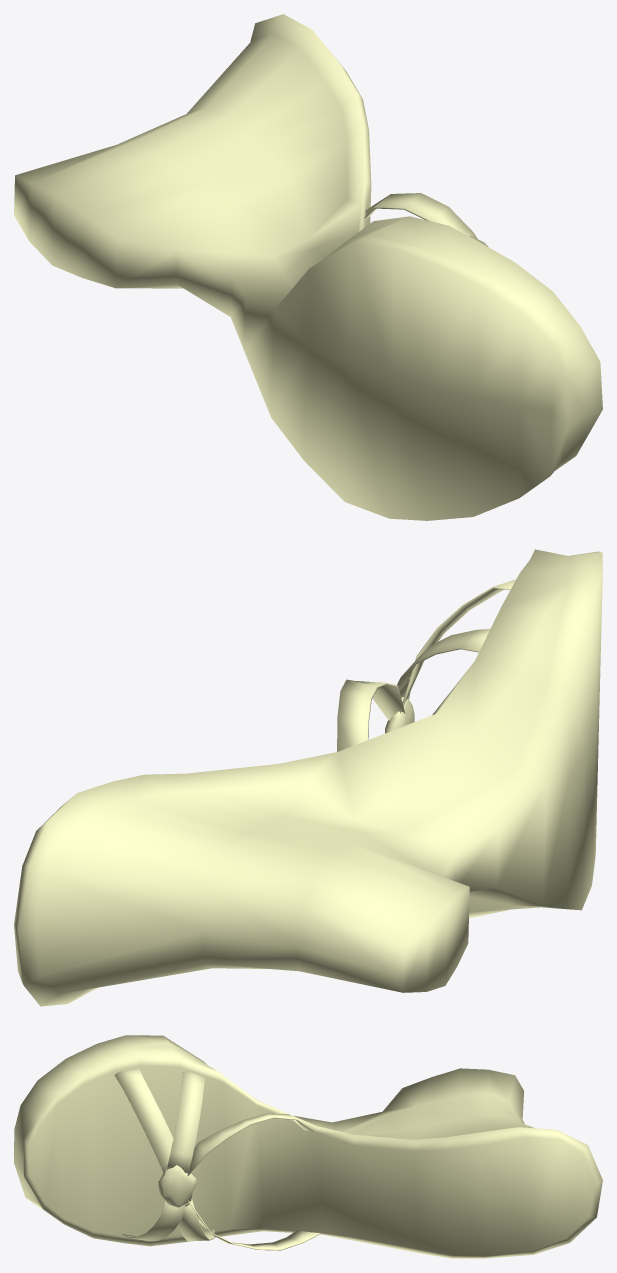
File: shoe3_3.dae
The picture shows the model from 3 angles, top to bottom: view 1: azimuth 30°, elevation 25°; view 2: azimuth 150°, elevation 25°; view 3: azimuth 270°, elevation 25°; orthographic projection. The views are drawn at different scales.
Visible parts, largest first — view 1: shoe3_019; view 2: shoe3_019; view 3: shoe3_019.
Part boxes in pixels (x1,y1,x2,y2): shoe3_019: (14,14,602,520); shoe3_019: (14,549,602,1006); shoe3_019: (14,1035,602,1258).
Bounding box in the file's own units: 0.1426 × 0.3367 × 0.1204.
